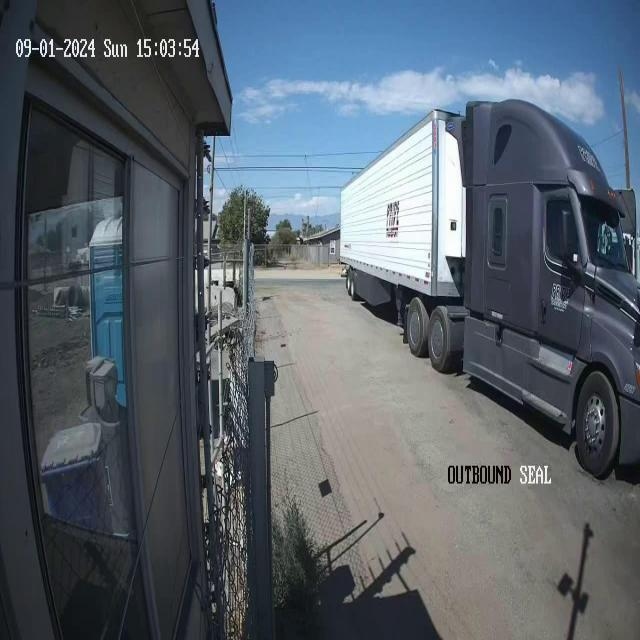TRUCK_IN: (338, 95, 640, 481)
